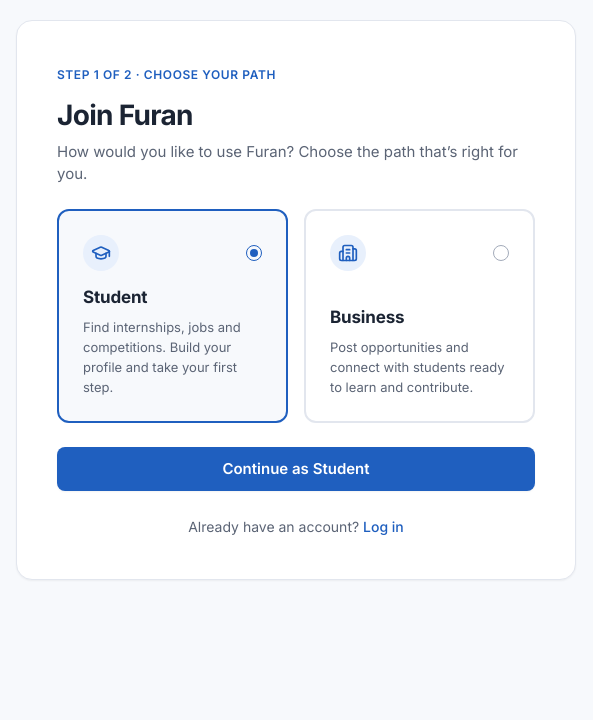
Authentication Screens Suite › Register Page › navigates from Step 1 to Step 2 Student form
Click the button "Continue as Student" at (296, 469), box left=57, top=447, right=535, bottom=491
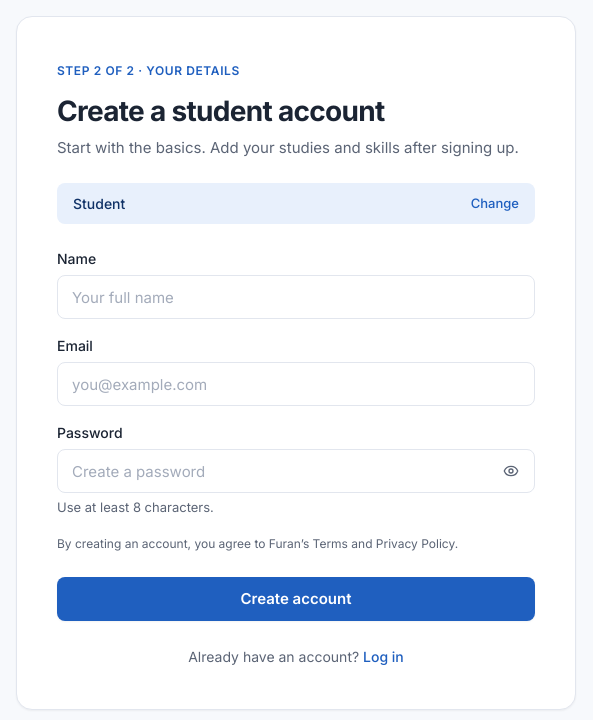
Check: the text "STEP 2 OF 2 · YOUR DETAILS" is shown, box left=57, top=63, right=240, bottom=78
Check: the heading "Create a student account" is shown, box left=57, top=94, right=384, bottom=128
Check: the field labelled "Name" is shown, box left=57, top=275, right=535, bottom=319
